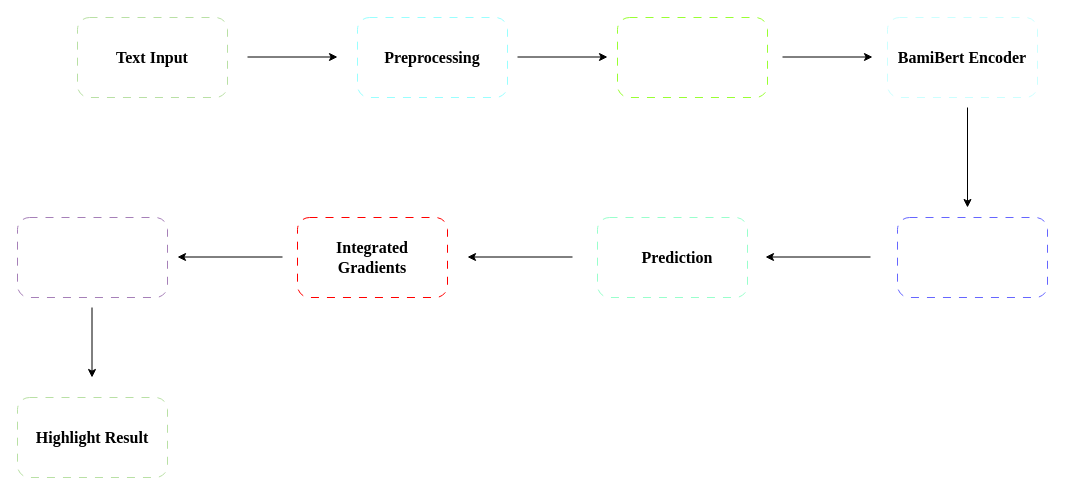
This 1070x495 diagram has some shape labels left out. The shapes that lost their labels are listed below. From the top down, each one's centre as x and y in pixels, then its label:
At point (692, 57): "Tokenizer".
At point (92, 257): "Attribution Scores".
At point (972, 257): "BamiBert Classifier".
